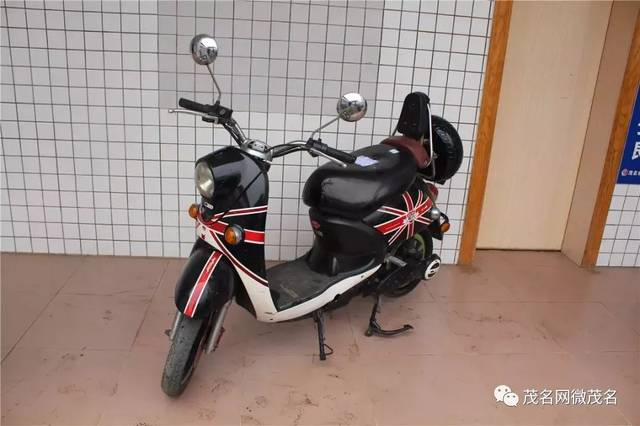电动车: (156, 31, 478, 405)
